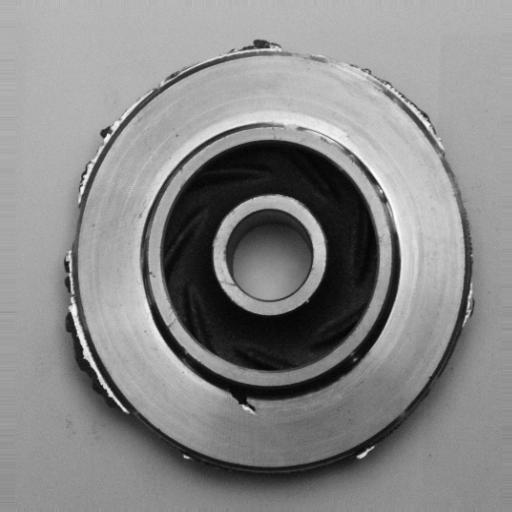casting_with_burr: (63, 36, 478, 477)
crack: (220, 375, 273, 424)
scratch: (273, 112, 355, 151)
